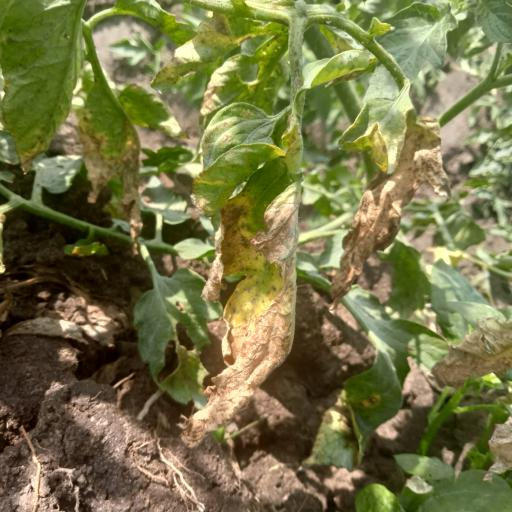Tomato_Brown_Spots: (188, 87, 304, 447)
